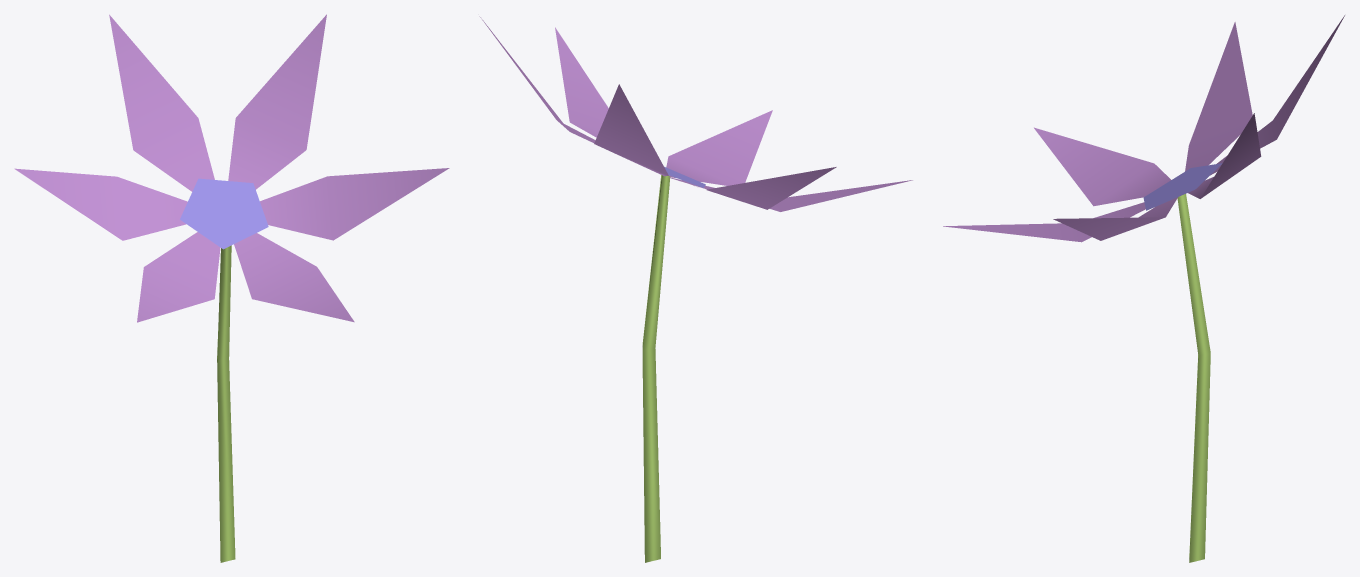
Rendered from flower2.fbx.
3 renders of one model, left to right at view 1: azimuth 30°, elevation 25°; view 2: azimuth 150°, elevation 25°; view 3: azimuth 270°, elevation 25°, orthographic. The views are drawn at different scales.
Parts seen in each view (by area): view 1: Flower_b_TwoS_03; view 2: Flower_b_TwoS_03; view 3: Flower_b_TwoS_03.
Boxes of the visible parts, <box> form: Flower_b_TwoS_03: <box>14,14,449,562</box>; Flower_b_TwoS_03: <box>479,16,912,562</box>; Flower_b_TwoS_03: <box>943,15,1344,562</box>.
Bounding box in the file's own units: 34.93 × 36.21 × 49.94.
1 material, 1 textured.
